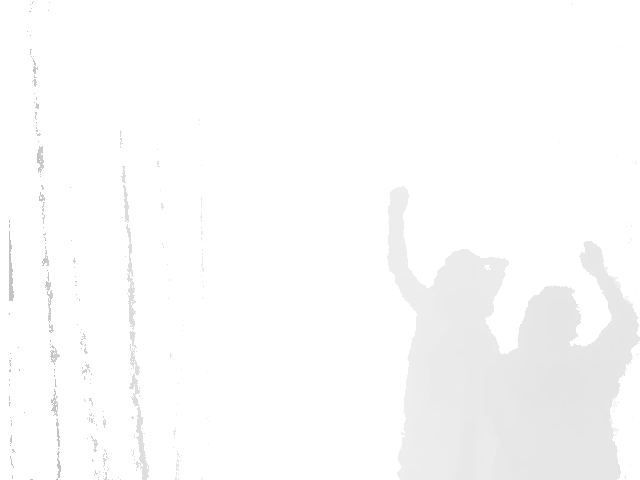hand: (581, 241, 608, 277), (388, 185, 409, 216)
head: (432, 249, 506, 315), (517, 285, 582, 350)
person: (474, 241, 640, 480), (384, 185, 504, 479)
